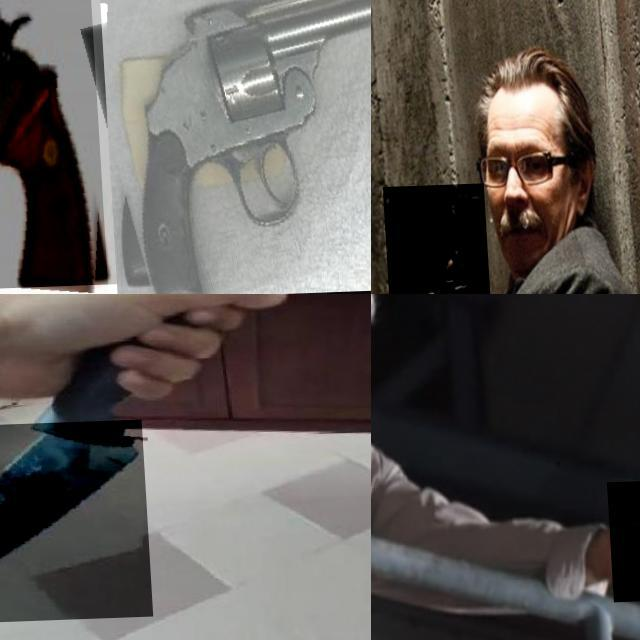-: (0, 421, 147, 625)
gun-knife-thesis - v11 Yolov5 augmented: (90, 0, 371, 294), (0, 0, 167, 294), (380, 186, 489, 294), (602, 482, 640, 606)
